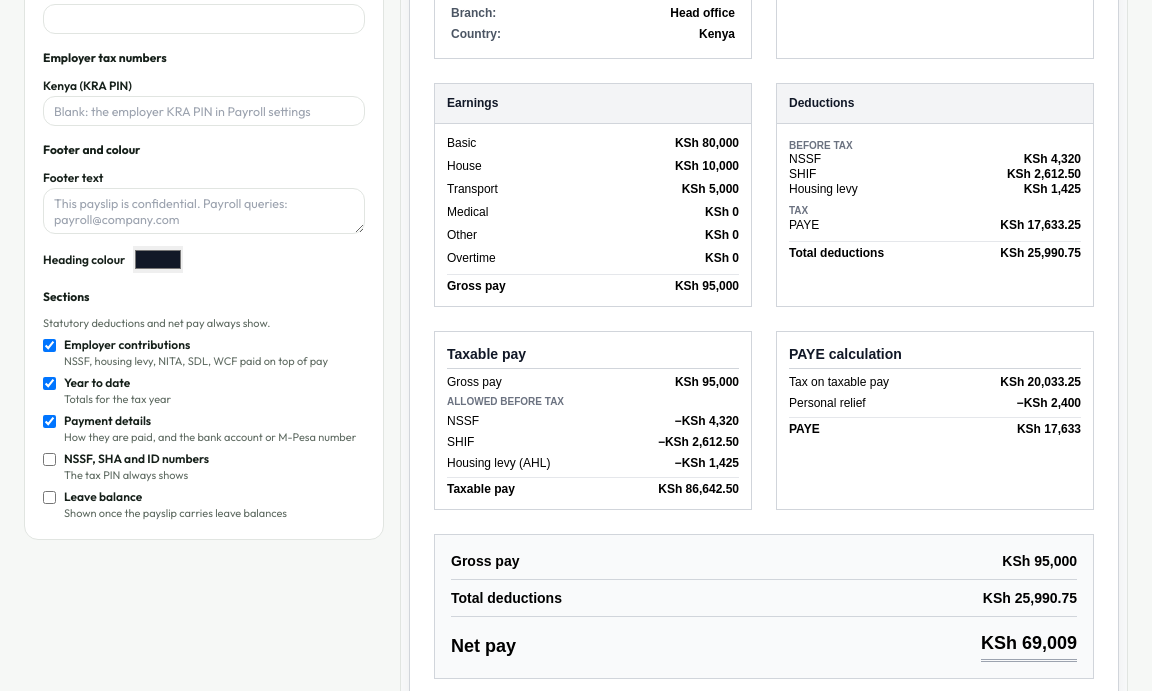
it: Payslip design › the preview follows the form: hidden sections disappear, the footer and contacts change
(page scrolled)
Click the checkbox labelled "Employer contributions" at (50, 346), box [43,339,56,352]
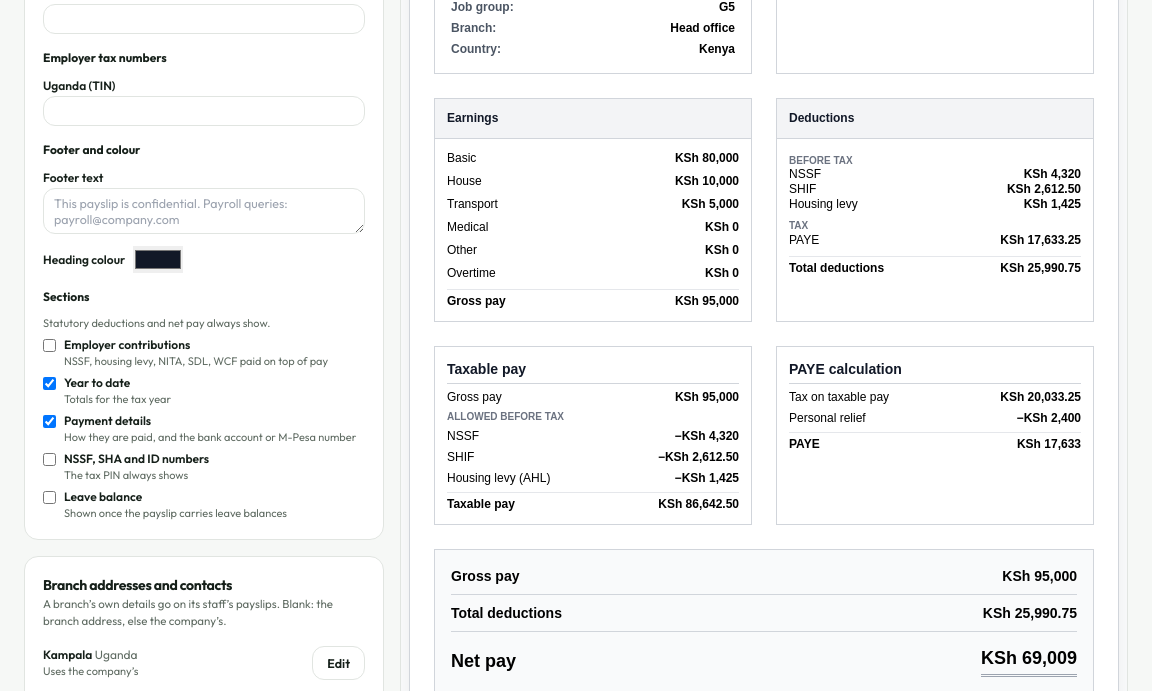
Click the checkbox labelled "Payment details" at (50, 422), box [43,415,56,428]
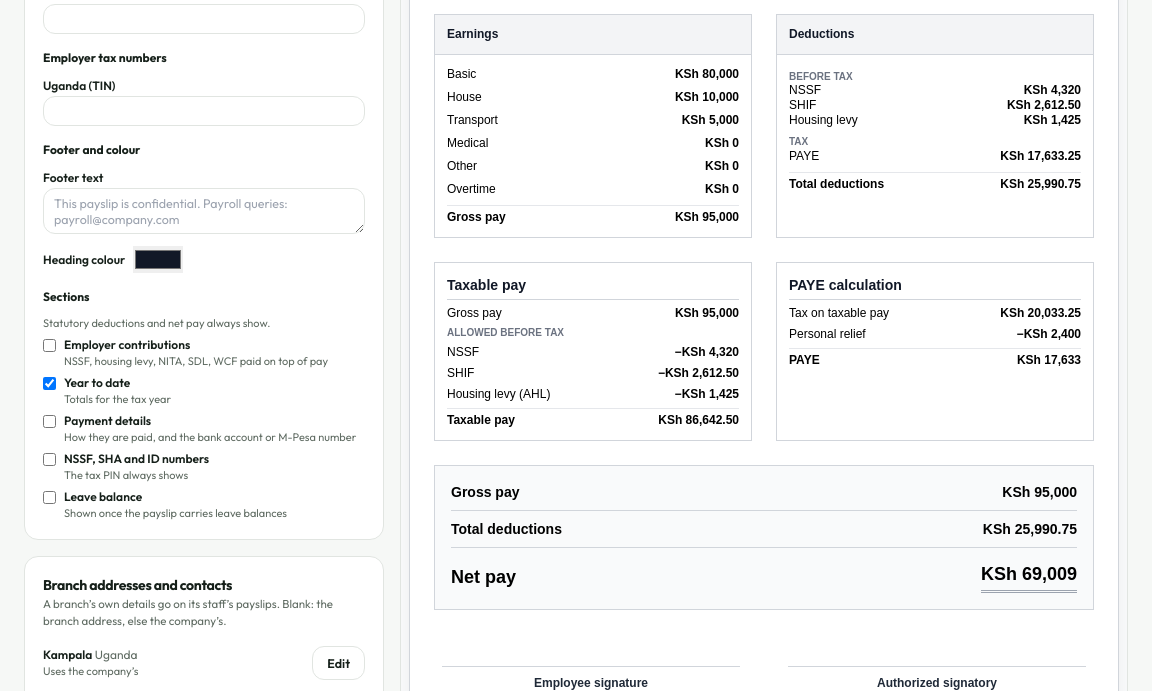
Click the checkbox labelled "NSSF, SHA and ID numbers" at (50, 460), box [43,453,56,466]
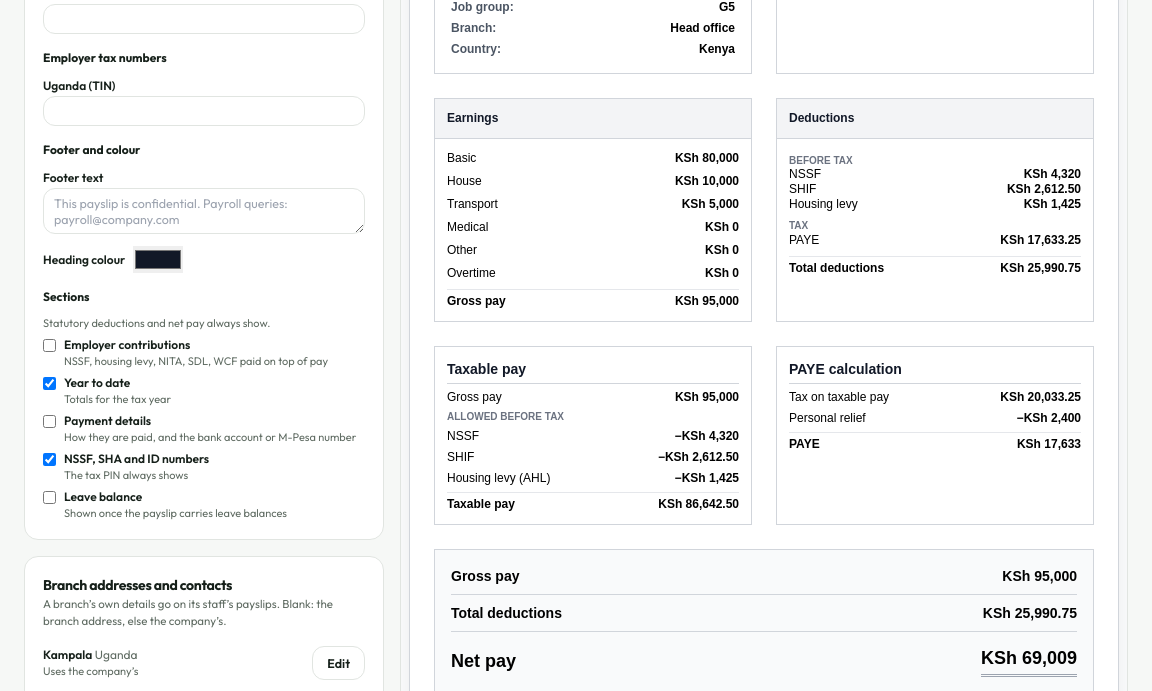
Replace the text in the text box with placeholder "This payslip is confidential" with "Queries: pay@acme.co" at (204, 211), box [43,188,365,234]
(page scrolled)
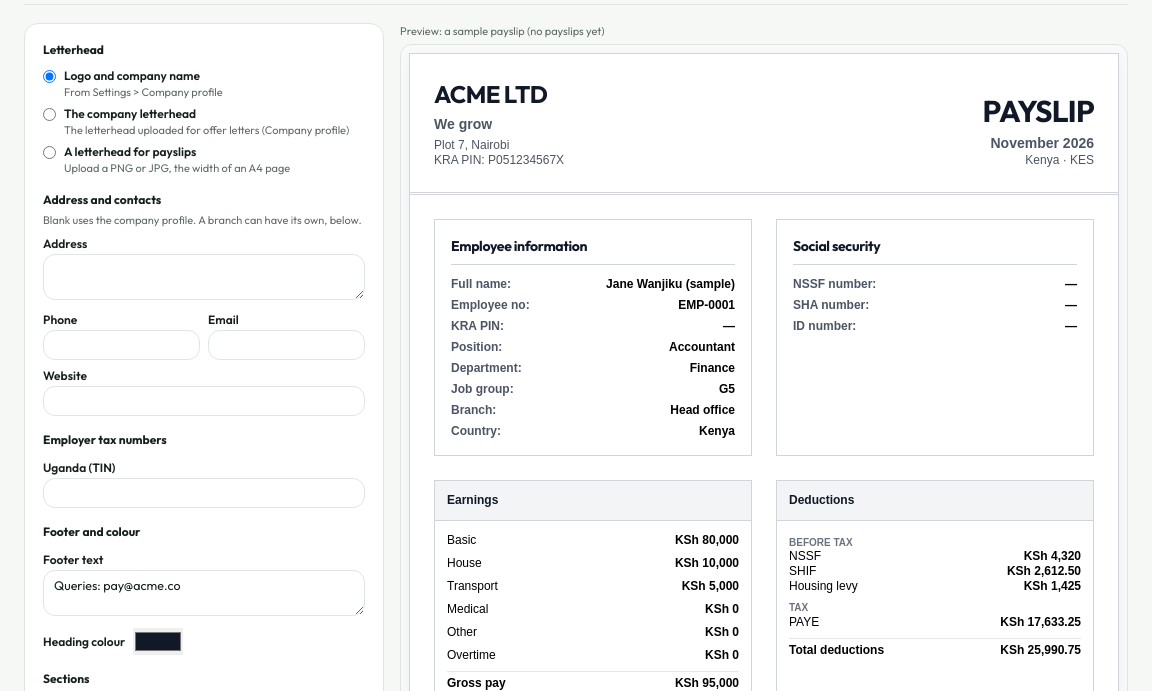
Type "+254 711 111111" into the field labelled "Phone" at (122, 345), box [43,330,200,360]
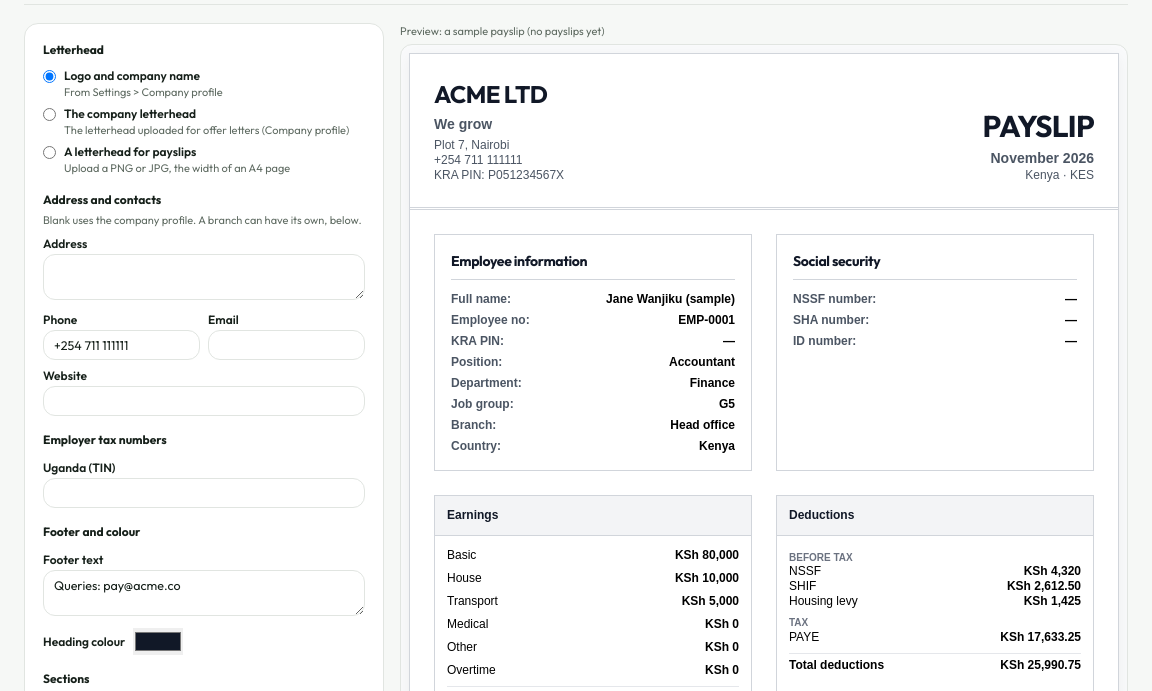
Check: the text "Plot 7, Nairobi" is shown, box [434,138,509,152]
Check: the text "KRA PIN: P051234567X" is shown, box [434,168,564,182]
Check: the text "+254 711 111111" is shown, box [434,152,522,166]
